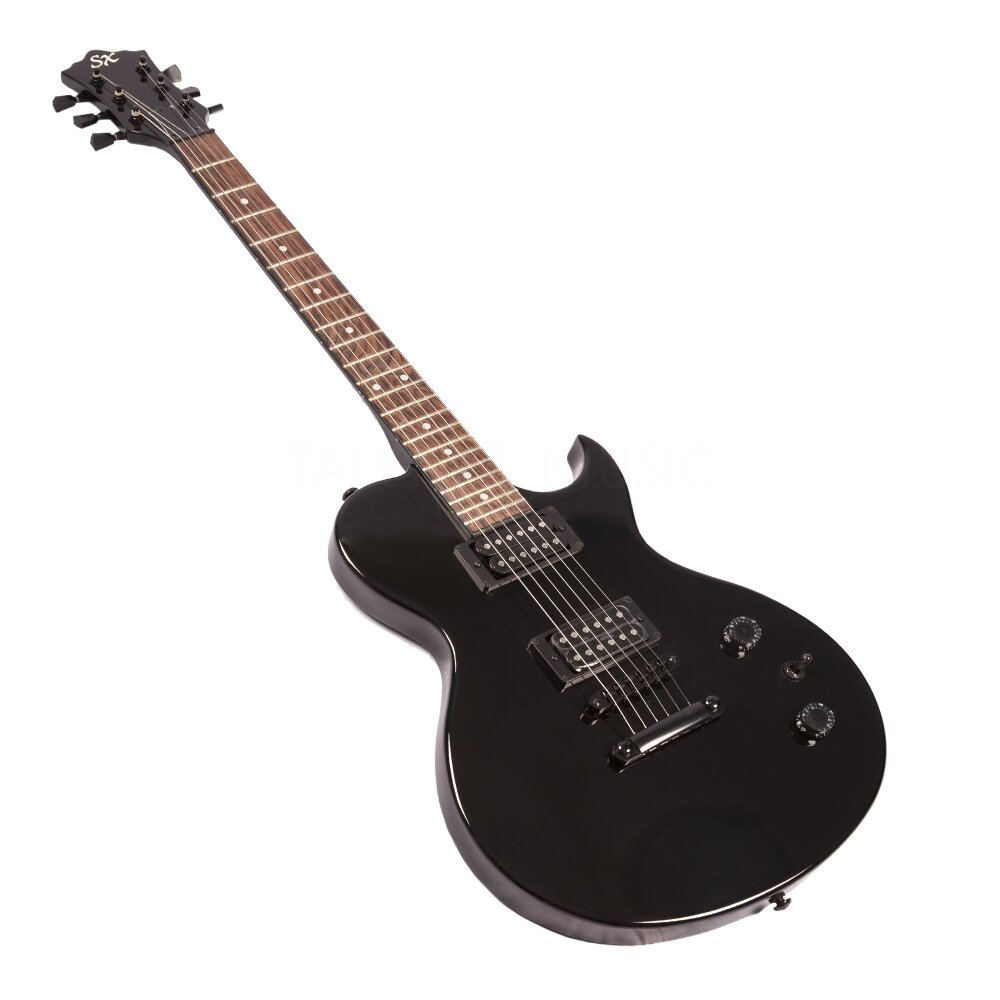ElectricGuitar: (43, 47, 892, 946)
